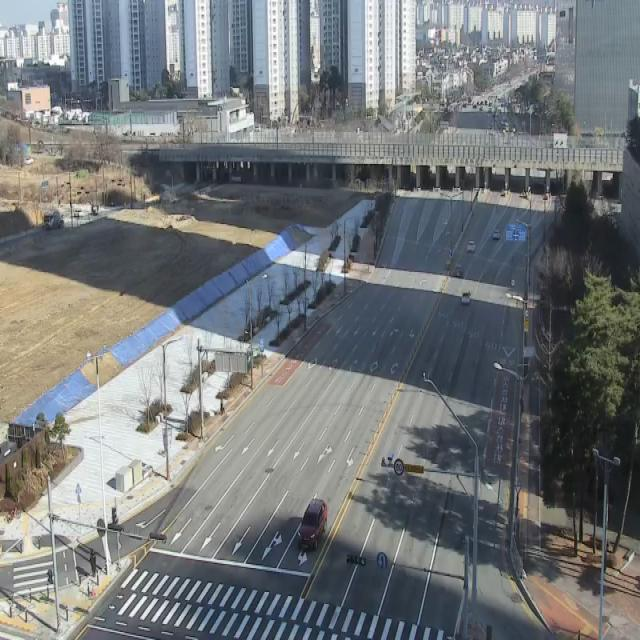Car: (298, 498, 328, 549), (453, 263, 464, 278), (462, 289, 471, 305), (467, 240, 476, 253), (492, 230, 502, 240)
